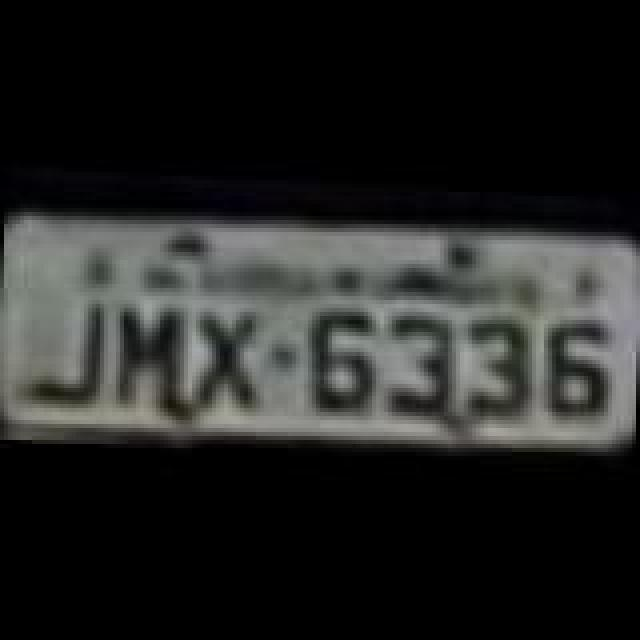3: (460, 308, 540, 428), (386, 308, 462, 428)
6: (544, 308, 616, 428), (304, 314, 384, 422)
J: (22, 290, 114, 414)
M: (116, 300, 188, 420)
X: (188, 312, 268, 424)
